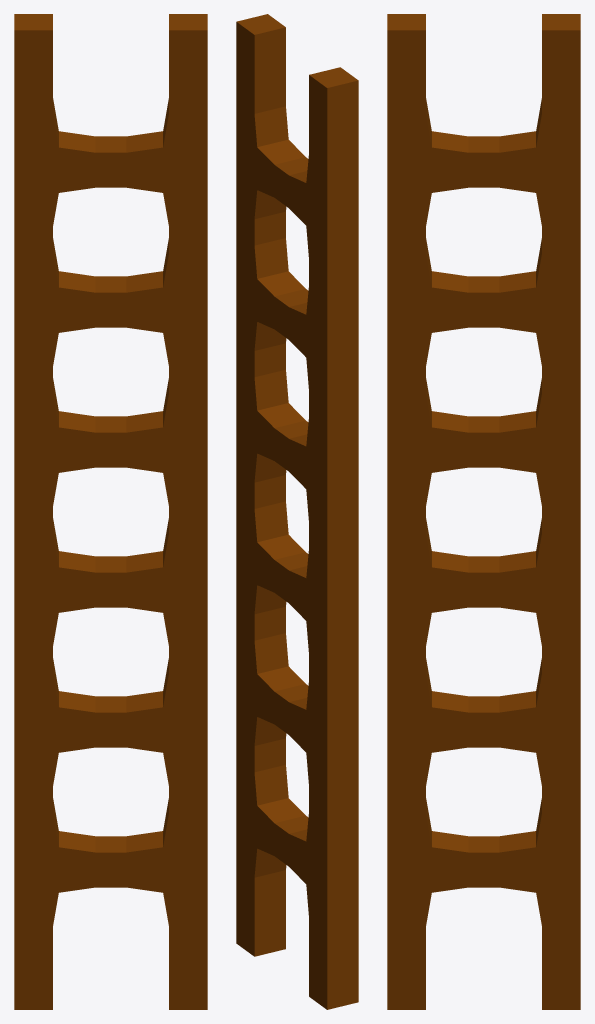
The model's file is escaleraMano.fbx.
The picture shows the model from 3 angles, left to right: view 1: azimuth 90°, elevation 25°; view 2: azimuth 210°, elevation 25°; view 3: azimuth 270°, elevation 25°; orthographic projection. The views are drawn at different scales.
Parts seen in each view (by area): view 1: escalera; view 2: escalera; view 3: escalera.
Boxes of the visible parts, x1,y1,x2,y2 form: escalera: (14, 14, 207, 1009); escalera: (236, 14, 358, 1009); escalera: (387, 14, 580, 1009).
Bounding box in the file's own units: 50 × 1400 × 250.
